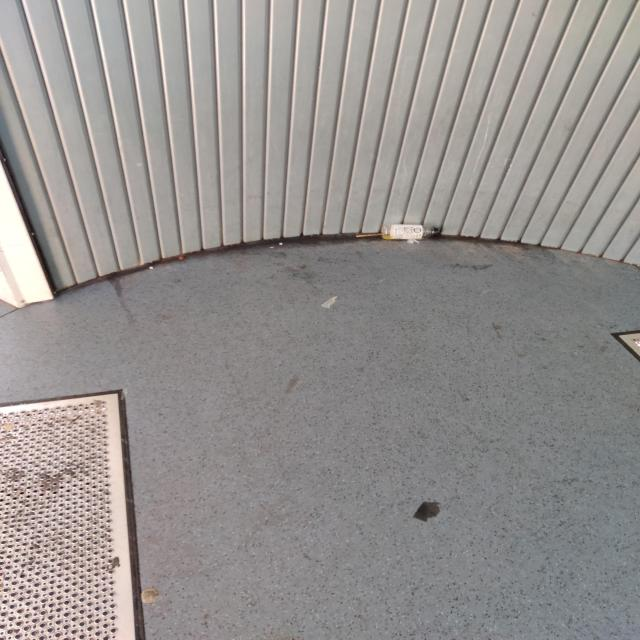litter: (379, 220, 442, 243)
